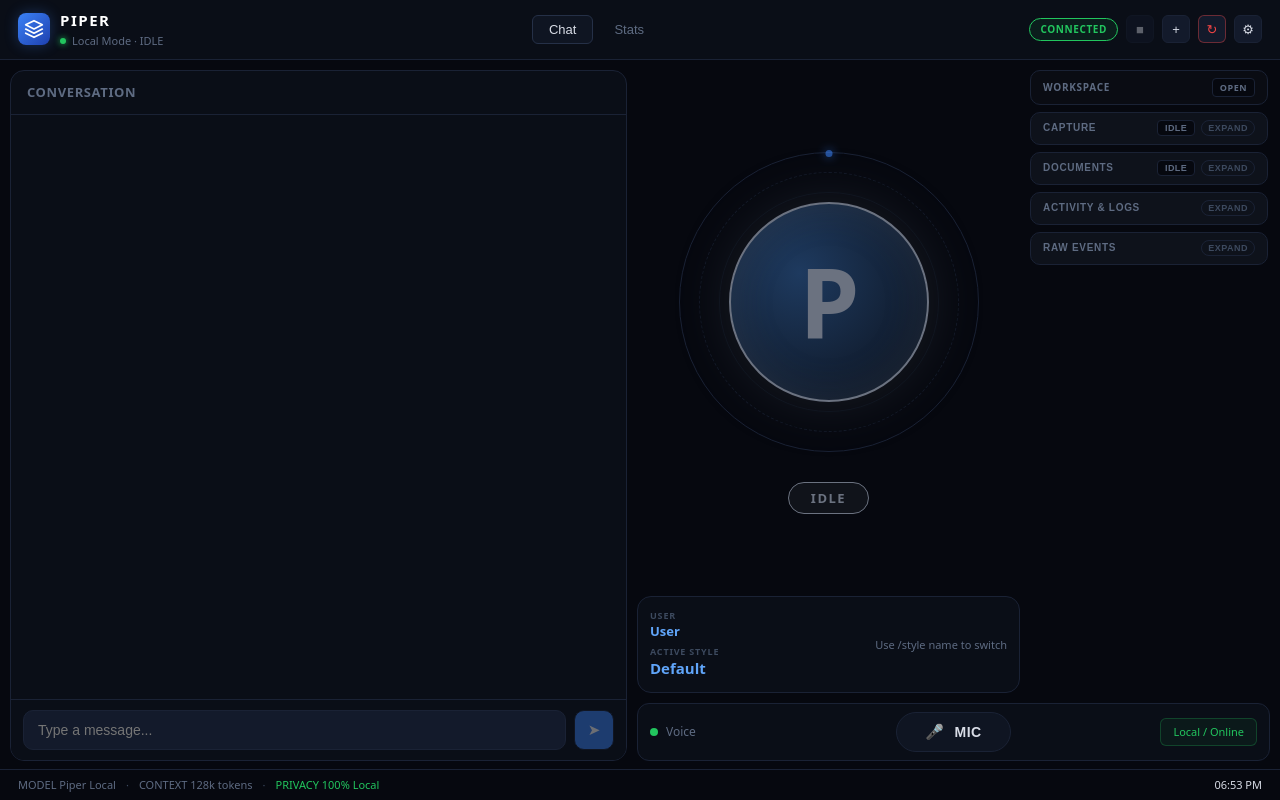
Test: App view switching › switches back to Chat view when Chat tab is clicked
Click the button with class "nav-tab" showing "Stats" at (629, 29), box [597, 15, 661, 44]
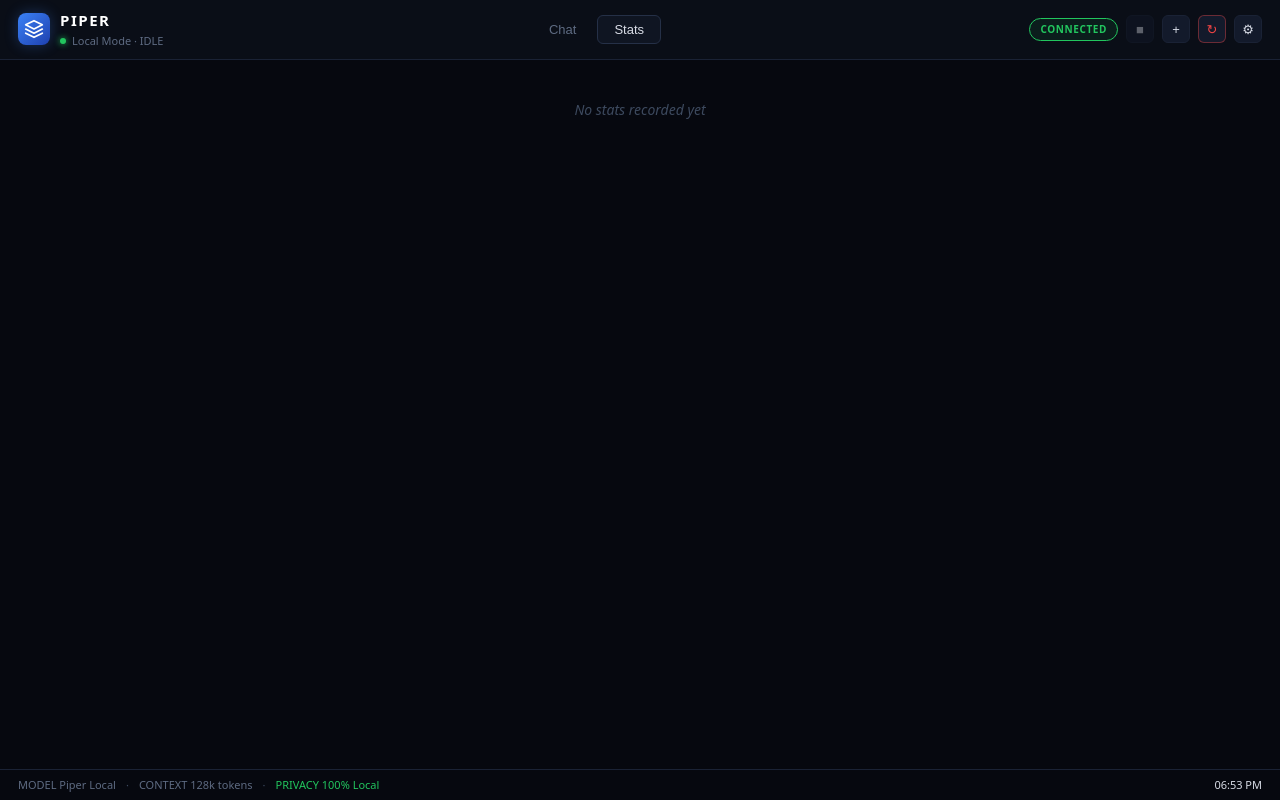
Expected: the element with class "stats-view-content" is shown, [574, 100, 706, 119]
Click the button with class "nav-tab" showing "Chat" at (563, 29), box [532, 15, 593, 44]
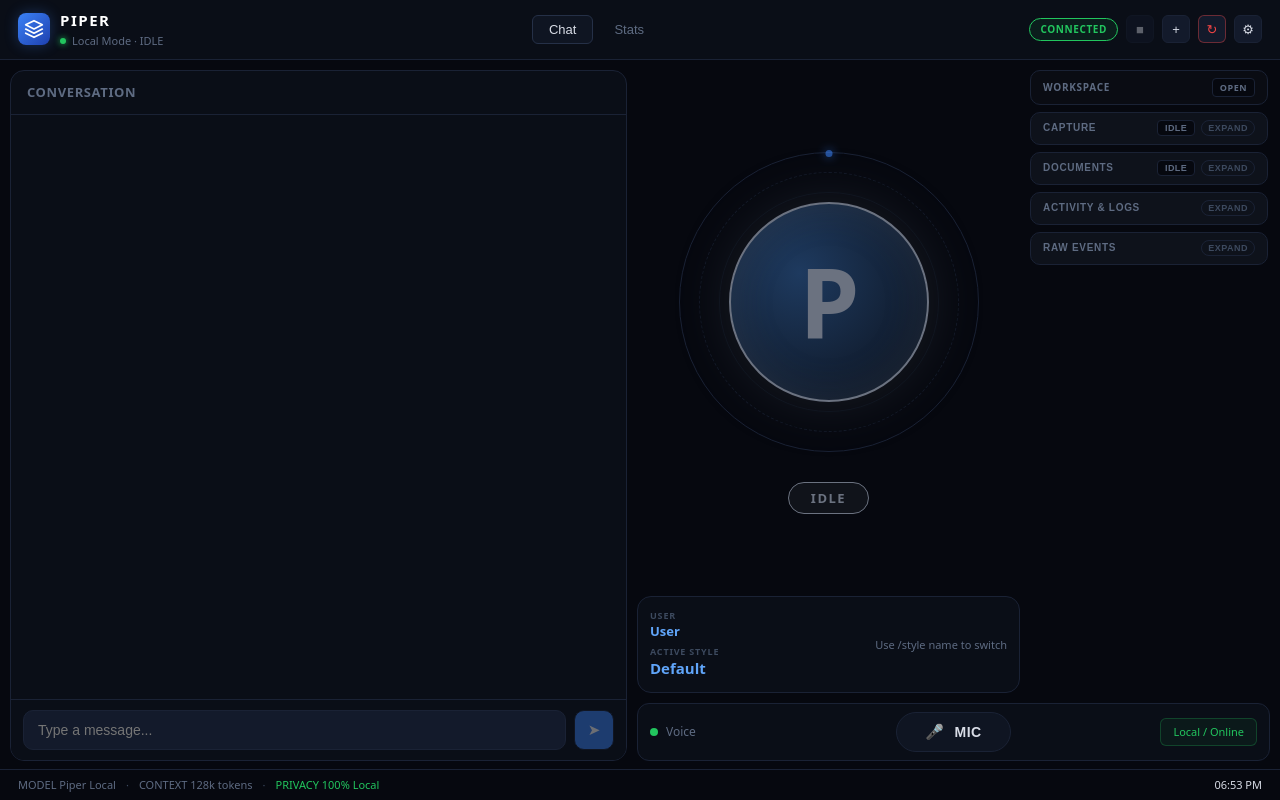
Expected: the field with class "chat-input" is shown, [23, 710, 566, 750]
